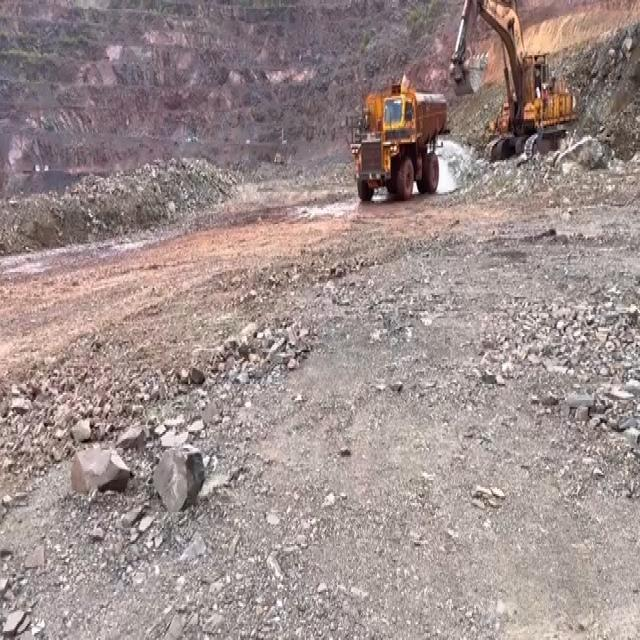dump_truck: (350, 79, 448, 198)
excavator: (450, 0, 576, 154)
